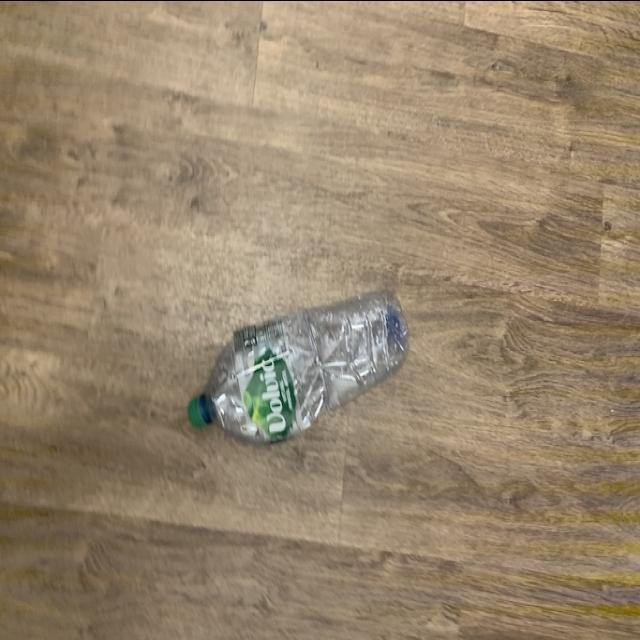litter: (190, 284, 412, 440)
